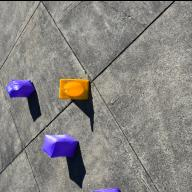cone: (59, 78, 89, 98)
cube: (41, 134, 79, 156), (5, 79, 36, 97), (90, 186, 119, 192)
